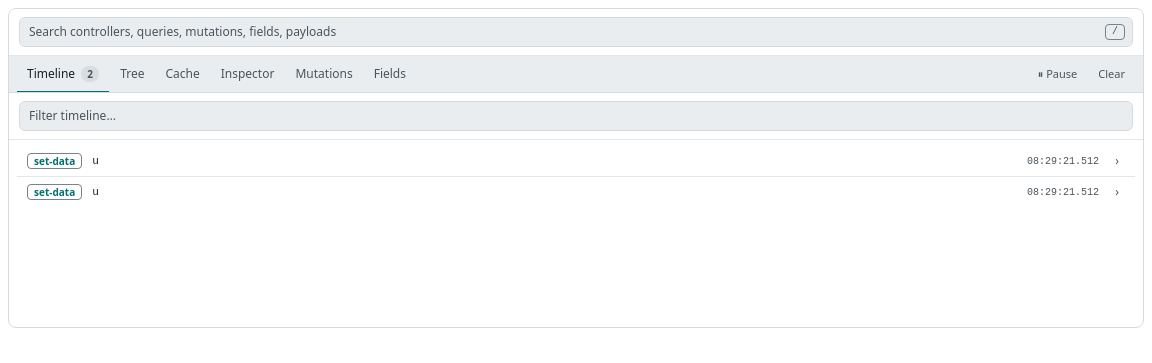
Test case: Timeline cache:set-data detail › added and removed keys render with + / − marks
The image size is (1152, 363).
Click the 1st element showing "set-data u 08:29:21.512 ›".
click(55, 161)  # box [27,152,1119,169]
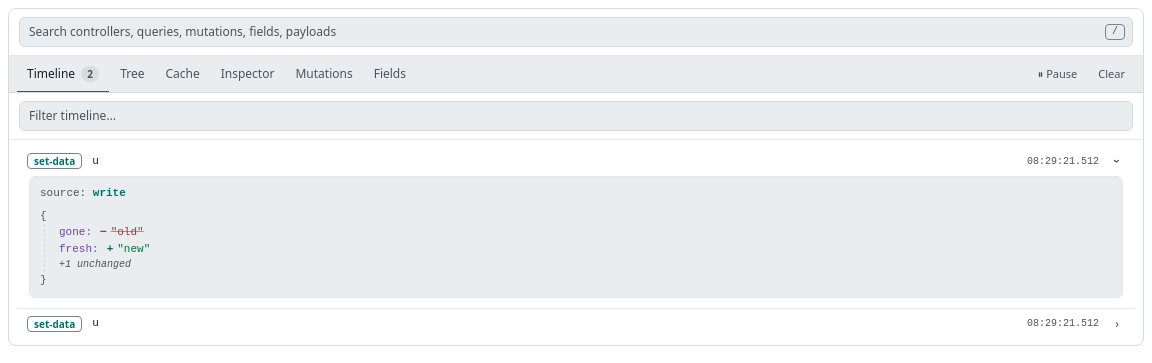
Result: the element with class "olas-devtools-diff-add" reads "+\"new\"" at [105,242,152,254]
Result: the element with class "olas-devtools-diff-remove" reads "−\"old\"" at [98,226,146,238]
Result: the text with class "olas-devtools-diff-unchanged" reads "+1 unchanged" at [59,259,131,270]
